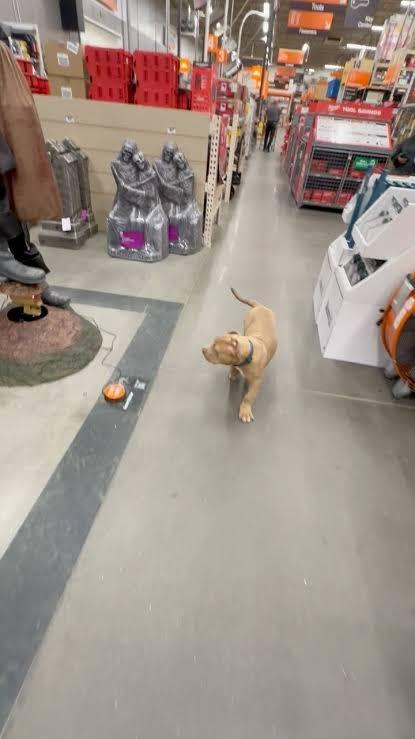adult_dog: (201, 285, 279, 424)
